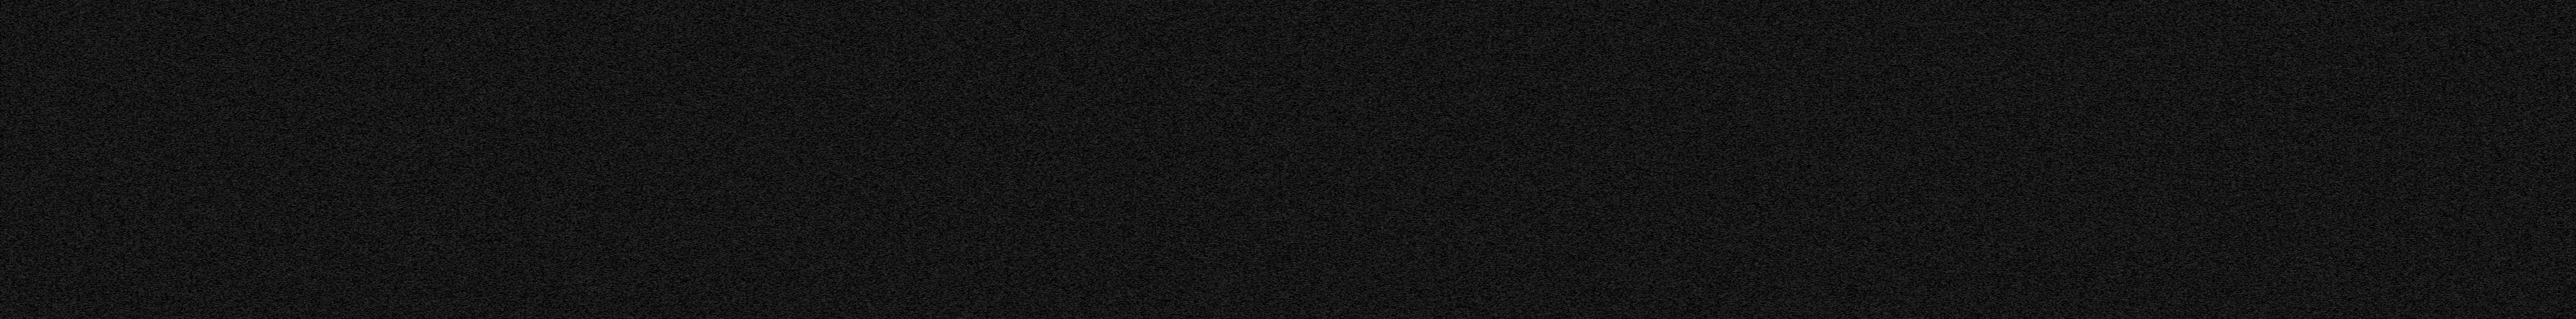wv_am: (641, 0, 644, 319), (2422, 0, 2425, 276), (2422, 278, 2425, 319)
wv_cw: (2390, 0, 2394, 319), (2413, 0, 2417, 319)
wv_lsb: (928, 61, 933, 245), (649, 67, 652, 113), (649, 250, 652, 286), (928, 245, 931, 281), (649, 168, 652, 201), (928, 283, 931, 314), (649, 13, 652, 43), (649, 209, 652, 229), (930, 3, 931, 28), (649, 296, 652, 307), (649, 156, 652, 168), (649, 145, 652, 156), (649, 133, 652, 145), (649, 2, 652, 13), (649, 201, 652, 209), (649, 118, 652, 127), (649, 43, 652, 51), (649, 240, 652, 247), (649, 230, 652, 237), (649, 127, 652, 133), (649, 56, 652, 62), (930, 30, 931, 39), (649, 311, 652, 314), (649, 113, 652, 117), (649, 62, 652, 66), (649, 51, 652, 54), (930, 43, 931, 48), (930, 316, 931, 319), (649, 309, 652, 311), (649, 294, 652, 296), (649, 291, 652, 293), (649, 288, 652, 289), (649, 248, 652, 250), (649, 314, 652, 316), (930, 54, 931, 56), (930, 39, 931, 41)
wv_usb: (2415, 107, 2418, 319), (2415, 2, 2418, 107), (547, 155, 550, 224), (547, 35, 550, 95), (547, 276, 550, 294), (547, 303, 550, 316), (547, 238, 550, 252), (547, 229, 550, 237), (547, 115, 550, 123), (547, 7, 550, 15), (547, 268, 550, 275), (547, 143, 550, 150), (547, 95, 550, 102), (547, 150, 550, 155), (547, 107, 550, 112), (547, 15, 550, 20), (547, 299, 550, 303), (547, 294, 550, 298), (547, 261, 550, 265), (547, 257, 550, 260), (547, 253, 550, 257), (547, 133, 550, 136), (547, 25, 550, 28), (547, 136, 549, 141), (547, 317, 550, 319), (547, 266, 550, 268), (547, 225, 550, 227), (547, 130, 550, 132), (547, 127, 550, 128), (547, 125, 550, 127), (547, 104, 550, 105), (547, 30, 550, 31), (547, 21, 549, 25)
